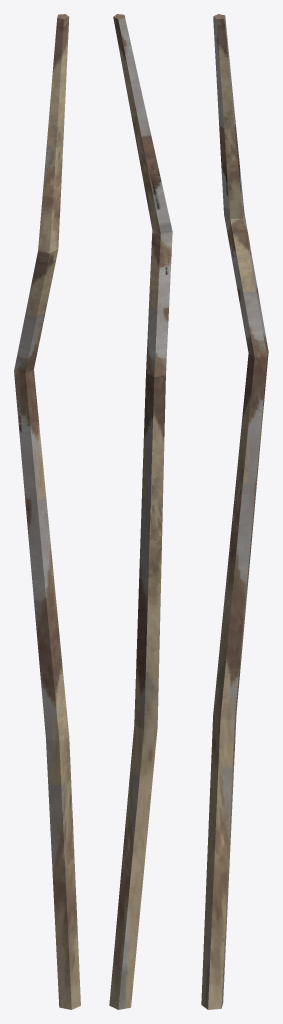
The model's file is Forest_1_Euc_6.gltf.
3 renders of one model, left to right at view 1: azimuth 90°, elevation 25°; view 2: azimuth 210°, elevation 25°; view 3: azimuth 270°, elevation 25°, orthographic.
Parts seen in each view (by area): view 1: Forest_1_Euc_6; view 2: Forest_1_Euc_6; view 3: Forest_1_Euc_6.
Boxes of the visible parts, x1,y1,x2,y2 form: Forest_1_Euc_6: (14, 14, 80, 1009); Forest_1_Euc_6: (109, 14, 172, 1009); Forest_1_Euc_6: (201, 14, 268, 1009).
Bounding box in the file's own units: 0.9363 × 17.63 × 1.09.
1 material, 1 textured.
